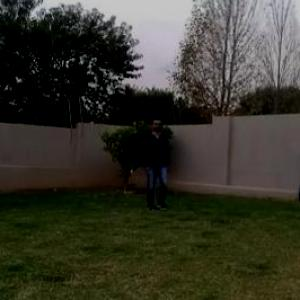follow: (142, 112, 169, 216)
